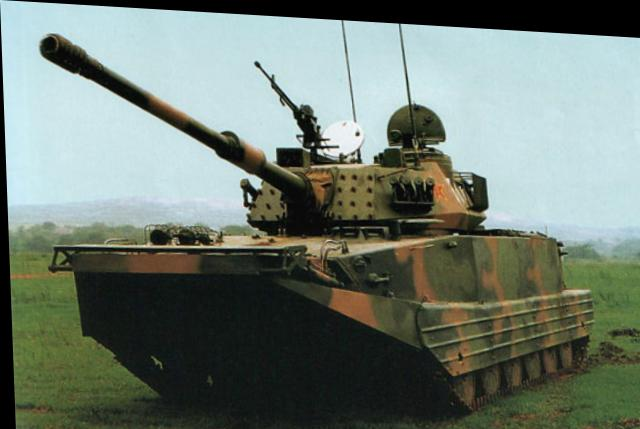tank: (65, 114, 587, 387)
